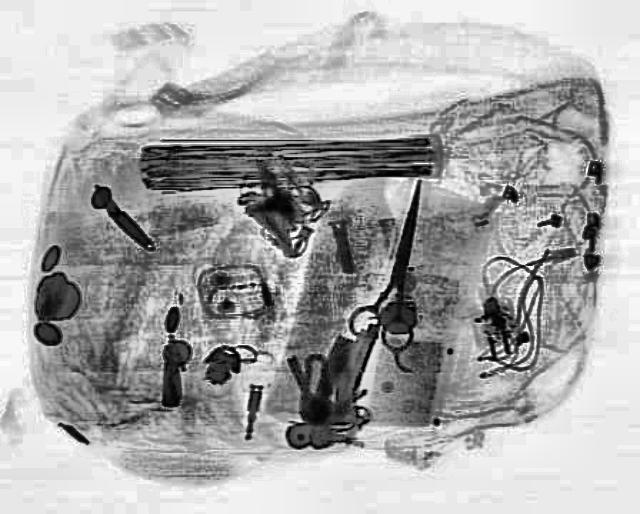Scissors: (341, 172, 449, 352)
